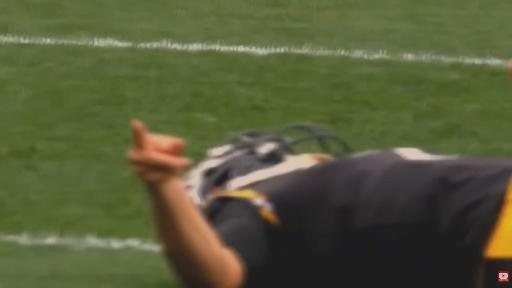Helmet: (184, 124, 351, 206)
Jersey: (214, 149, 511, 286)
Player: (129, 122, 511, 287)
